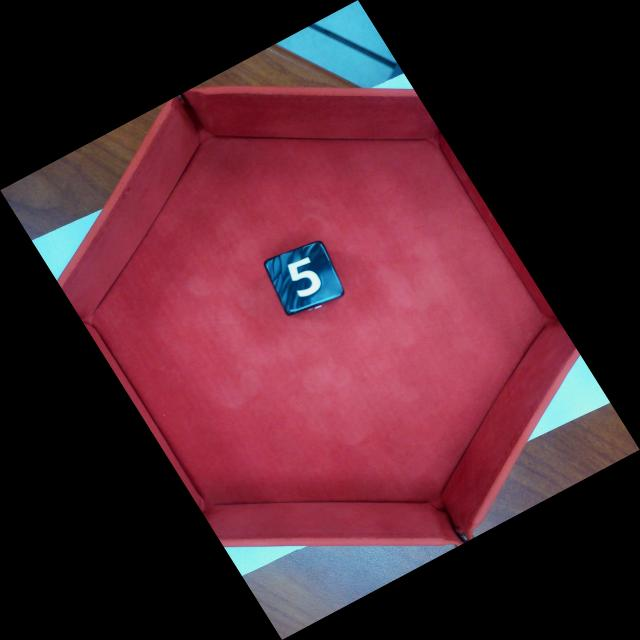dice: (268, 239, 343, 315)
